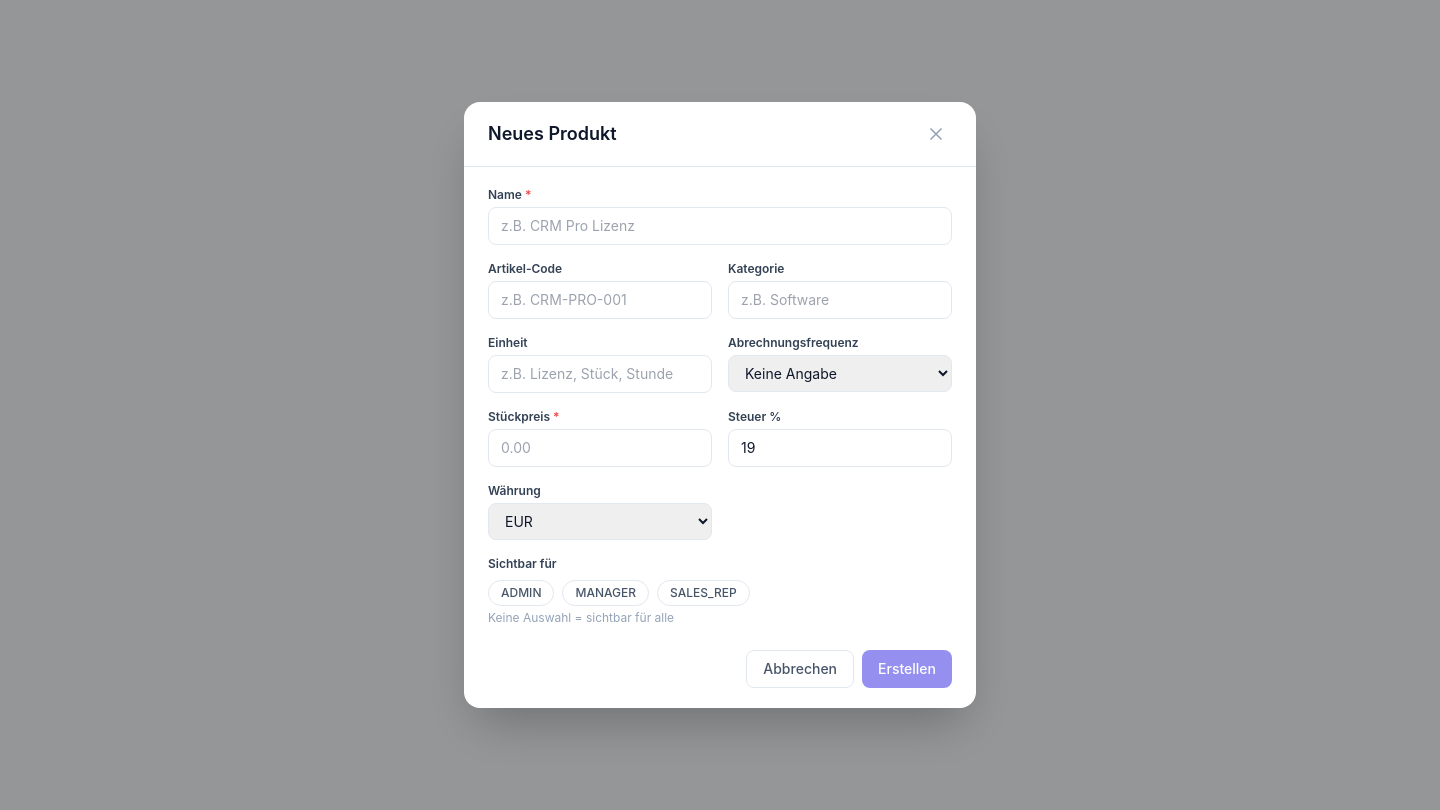
Scenario: CreateProductModal › submit button is enabled when name and price are set
Type "New Product" into the field with placeholder "z.B. CRM Pro Lizenz" at (720, 226), box [488,207,952,245]
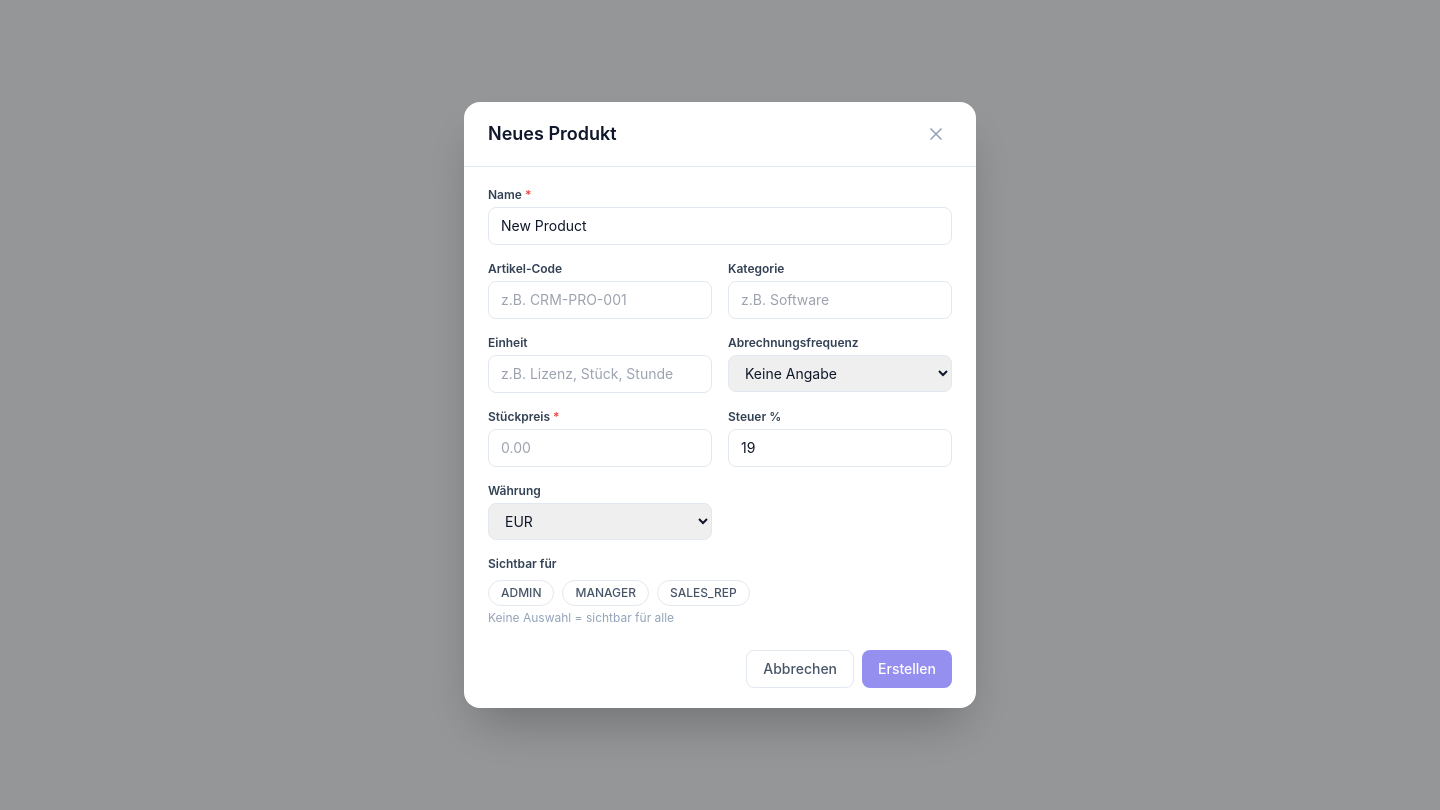
Type "49" into the number field with placeholder "0.00" at (600, 448), box [488,429,712,467]
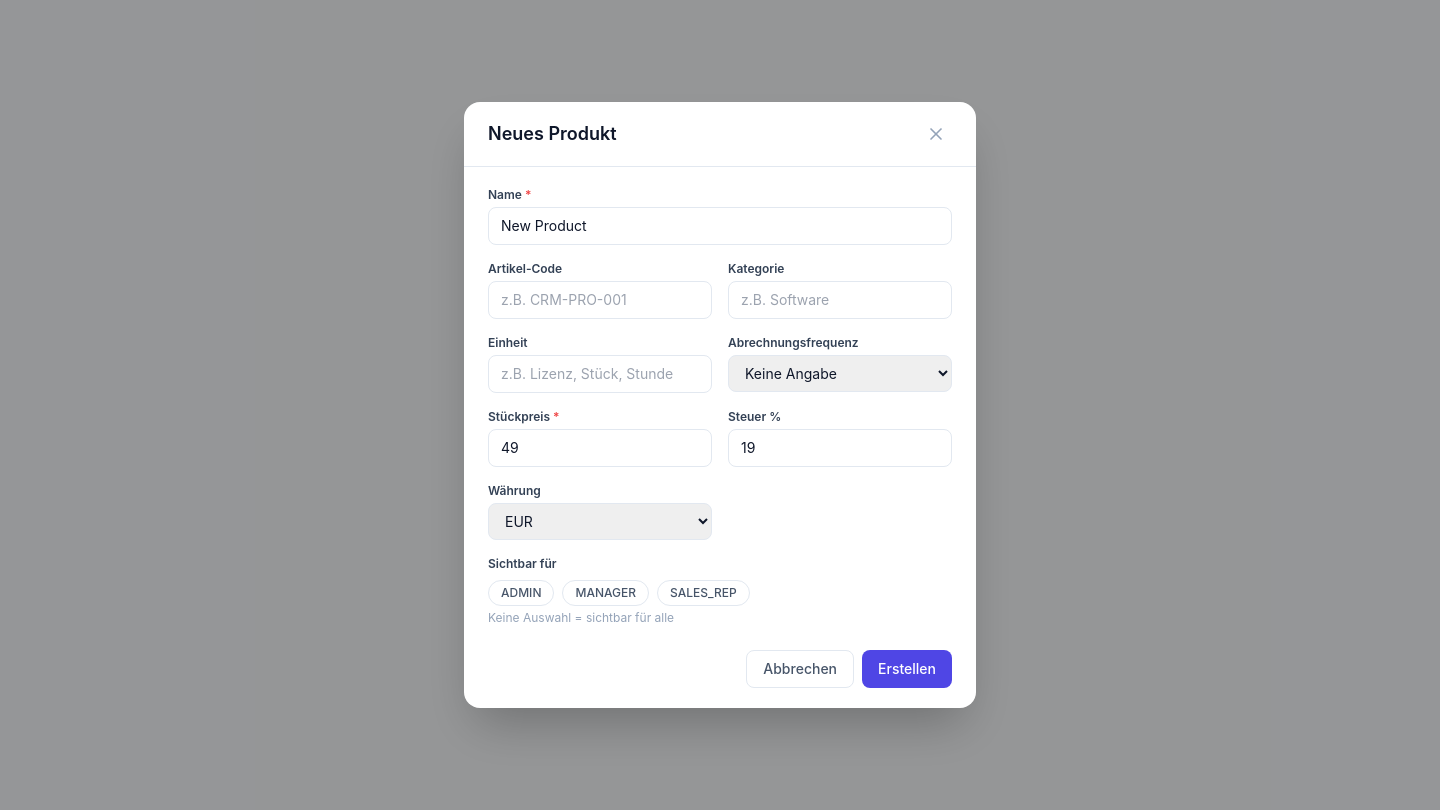
Check: the button "Erstellen" is enabled, box [862,650,952,688]
